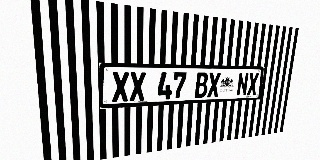4: (157, 72, 173, 100)
7: (172, 72, 187, 99)
B: (194, 72, 209, 98)
N: (236, 73, 249, 96)
X: (112, 72, 129, 102), (130, 72, 146, 101), (207, 72, 221, 97), (247, 73, 259, 95)
